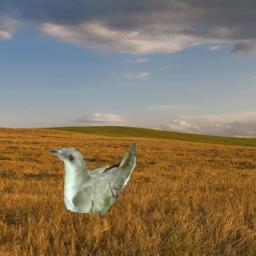Cuckoo: (49, 141, 136, 218)
